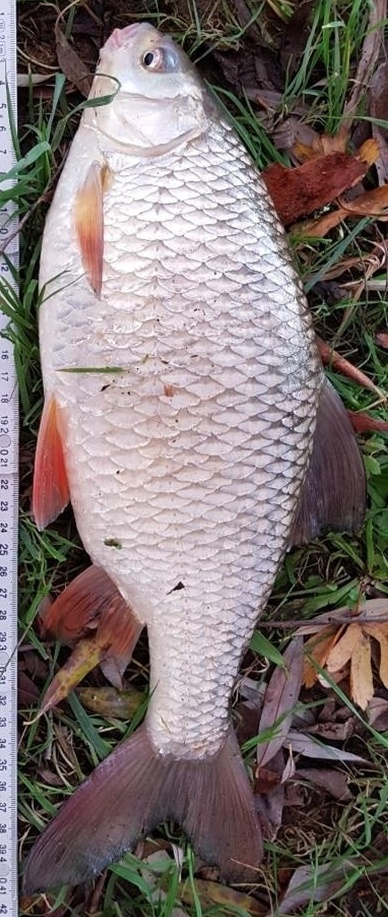Rutilus rutilus: (20, 20, 368, 897)
